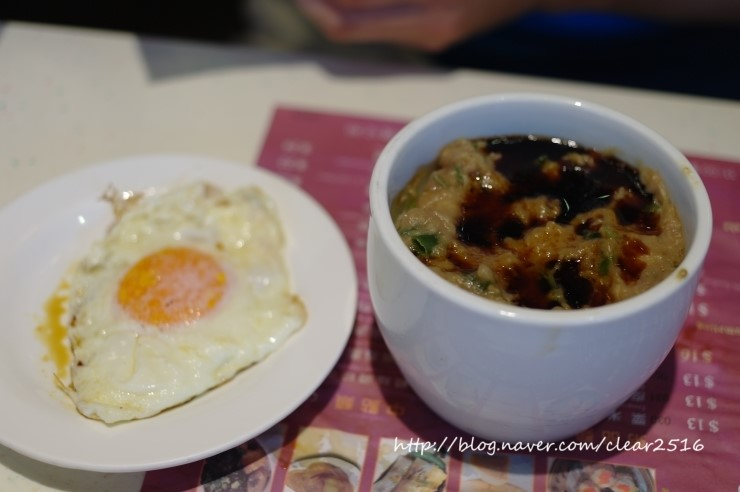fried egg: (66, 193, 298, 417)
